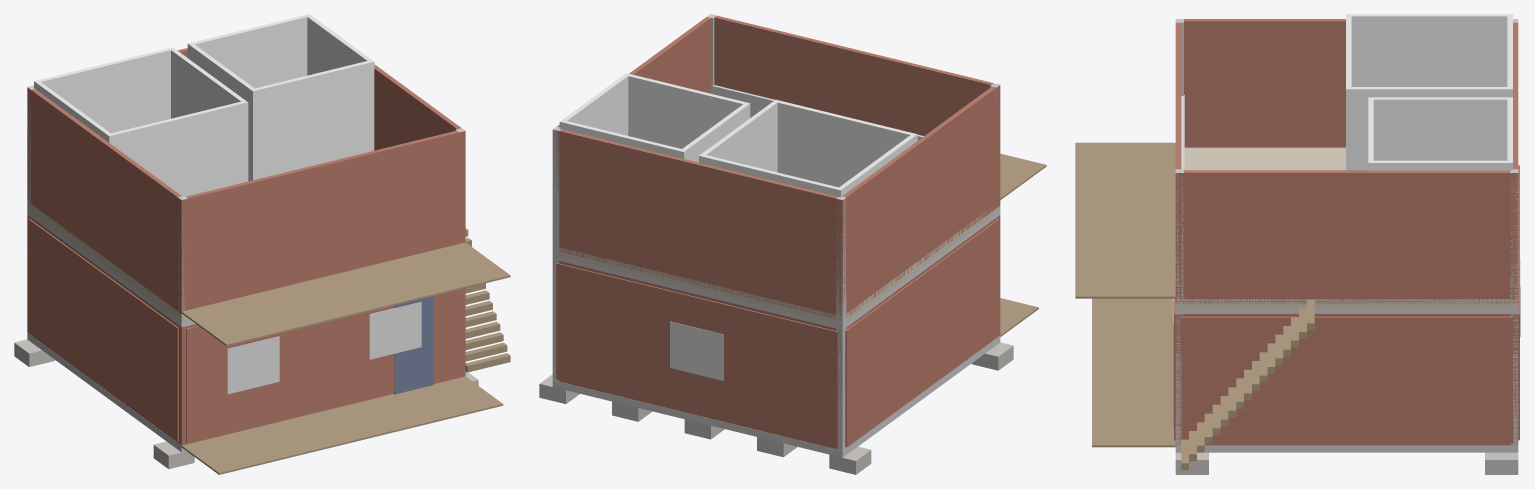
Rendered from Duplex-20-Base-OxidisedRed-LOD3.glb.
3 views of the same model, side by side, from view 1: azimuth 30°, elevation 25°; view 2: azimuth 150°, elevation 25°; view 3: azimuth 270°, elevation 25° (orthographic). The views are drawn at different scales.
Parts seen in each view (by area): view 1: ExteriorShellUpper, ExteriorPanelsStandard, StudyUpper, BedroomUpper, BalconyUpper, BalconyGround, WindowsStandard, StaircaseExternal, ExteriorShell, EntryDoor, FoundationBlocks, FloorUpper (+3 smaller); view 2: ExteriorShellUpper, ExteriorPanelsStandard, BedroomUpper, StudyUpper, FloorUpper, VerticalStructure, FoundationBlocks, BaseFrame, ExteriorShell, WindowsStandard, TopFrame, BalconyUpper (+2 smaller); view 3: ExteriorShellUpper, ExteriorPanelsStandard, BalconyUpper, BedroomUpper, BalconyGround, StudyUpper, FloorUpper, StaircaseExternal, ExteriorShell, VerticalStructure, BaseFrame, TopFrame (+1 smaller).
Boxes of the visible parts, <box> form: ExteriorShellUpper: <box>27,48,465,315</box>; ExteriorPanelsStandard: <box>28,218,461,442</box>; StudyUpper: <box>187,14,374,181</box>; BedroomUpper: <box>34,47,248,196</box>; BalconyUpper: <box>181,242,510,346</box>; BalconyGround: <box>181,376,503,474</box>; WindowsStandard: <box>227,301,421,394</box>; StaircaseExternal: <box>465,228,510,372</box>; ExteriorShell: <box>27,214,465,445</box>; EntryDoor: <box>394,296,433,394</box>; FoundationBlocks: <box>14,339,478,469</box>; FloorUpper: <box>27,201,190,322</box>; ExteriorShellUpper: <box>553,15,1000,320</box>; ExteriorPanelsStandard: <box>556,219,999,447</box>; BedroomUpper: <box>699,99,917,197</box>; StudyUpper: <box>559,73,750,162</box>; FloorUpper: <box>559,206,1000,324</box>; VerticalStructure: <box>552,14,999,450</box>; FoundationBlocks: <box>539,342,1013,474</box>; BaseFrame: <box>552,336,1000,457</box>; ExteriorShell: <box>559,215,1000,448</box>; WindowsStandard: <box>670,321,723,380</box>; TopFrame: <box>559,210,1000,329</box>; BalconyUpper: <box>1000,153,1046,199</box>; ExteriorShellUpper: <box>1175,19,1518,303</box>; ExteriorPanelsStandard: <box>1174,165,1519,443</box>; BalconyUpper: <box>1075,142,1175,298</box>; BedroomUpper: <box>1346,14,1512,170</box>; BalconyGround: <box>1092,298,1175,447</box>; StudyUpper: <box>1368,97,1512,170</box>; FloorUpper: <box>1176,147,1518,308</box>; StaircaseExternal: <box>1181,299,1314,470</box>; ExteriorShell: <box>1175,314,1518,445</box>; VerticalStructure: <box>1175,19,1518,445</box>; BaseFrame: <box>1175,445,1518,452</box>; TopFrame: <box>1175,309,1518,313</box>.
Size of the model in its own units: 7.94 by 6 by 8.
